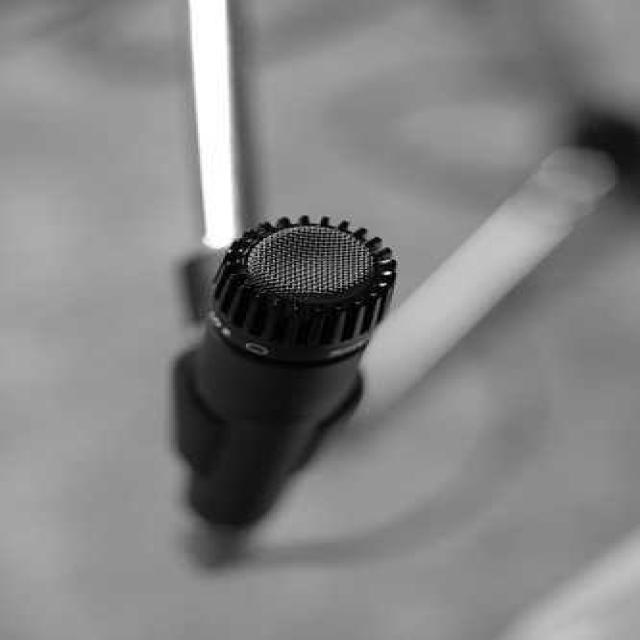microphone: (181, 220, 412, 578)
